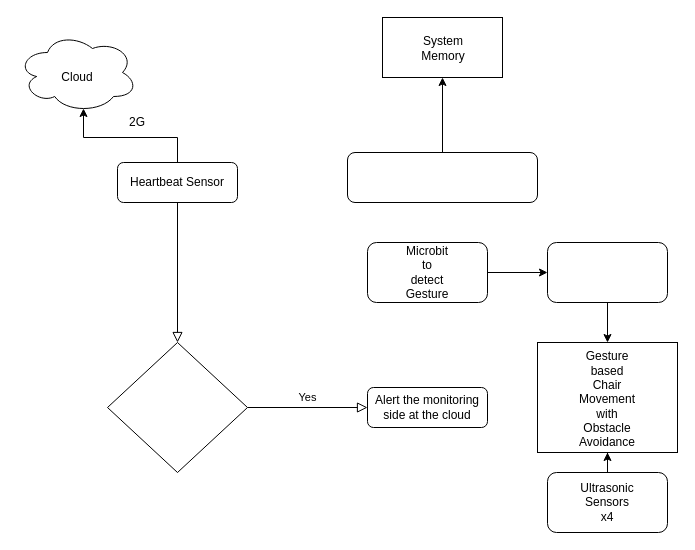
The diagram is 695 pixels wide and 550 high, and some of its shapes have lost their labels. Here are the shapes that lost their labels. From the top down, the box of each, then its label:
(346, 152, 538, 202): RPi 2 Microphone
(546, 242, 668, 302): Microbit to actuate motors
(106, 342, 248, 472): Heartbeat less than required
